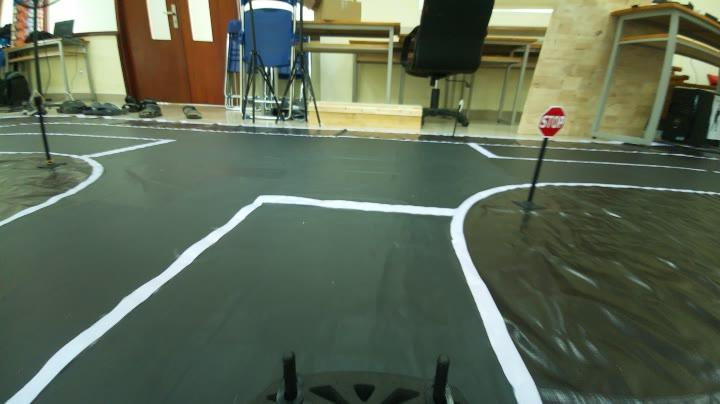stop: (535, 102, 567, 139)
